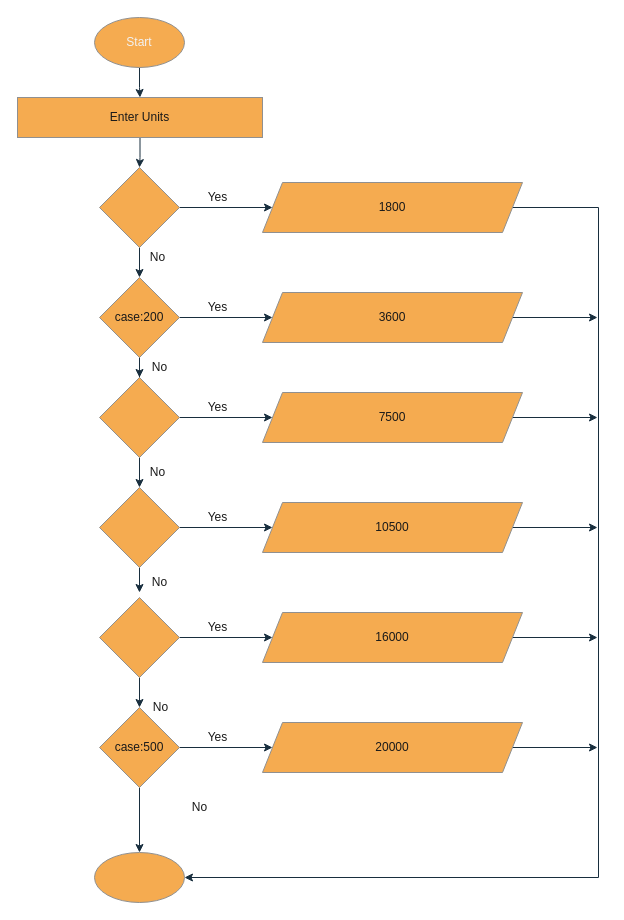
Image size: 624x920. Some labels were removed from this diagram. Each missing label, with the box of its shape:
case:100: (98, 166, 180, 248)
case:250: (98, 376, 180, 458)
case:350: (98, 486, 180, 568)
case:400: (98, 596, 180, 678)
Stop: (94, 852, 184, 902)
